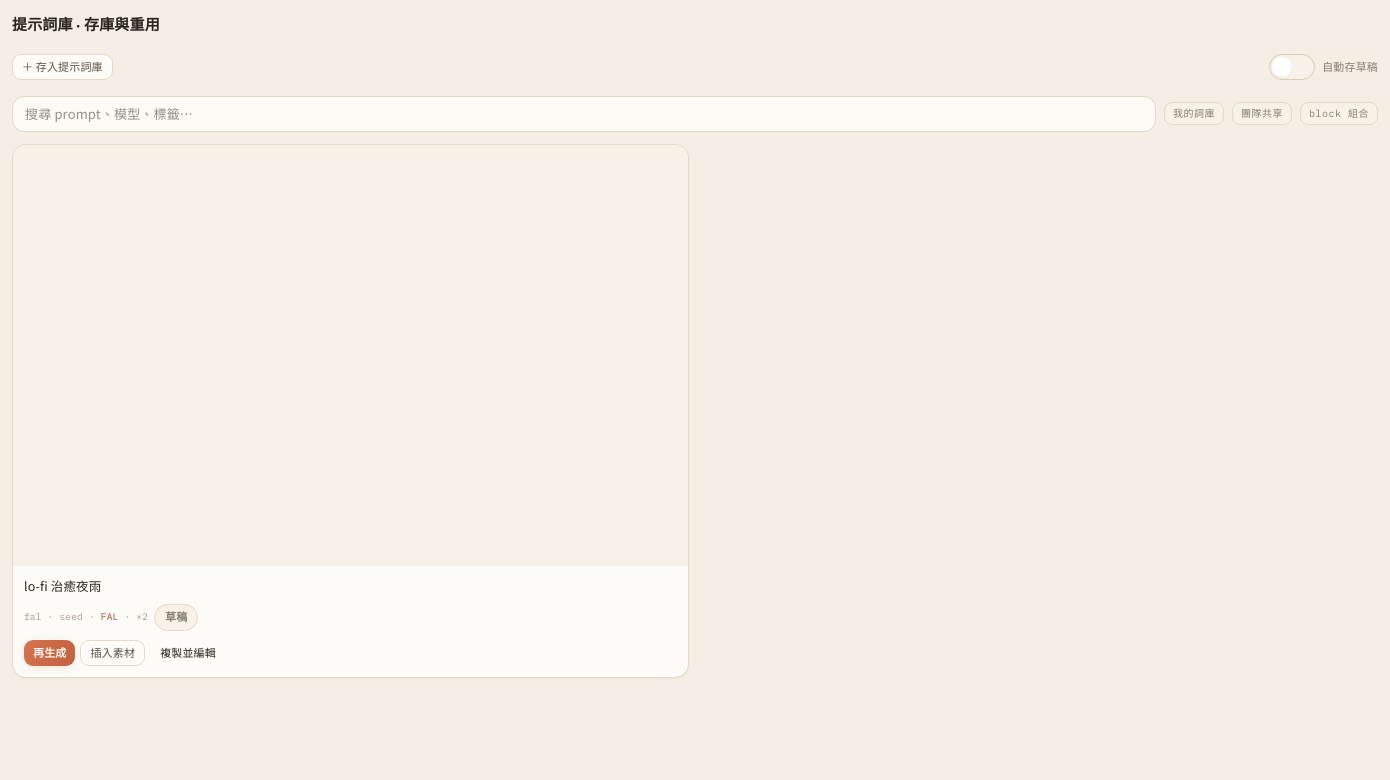
Test case: PromptVaultAdoption — 互動 › 存庫：按「＋ 存入提示詞庫」→ createPrompt 被呼叫、轉「已存入」
Expected: the text "lo-fi 治癒夜雨" is shown, [24, 576, 101, 595]
Click the button "＋ 存入提示詞庫": x=62, y=66 [12, 54, 113, 80]
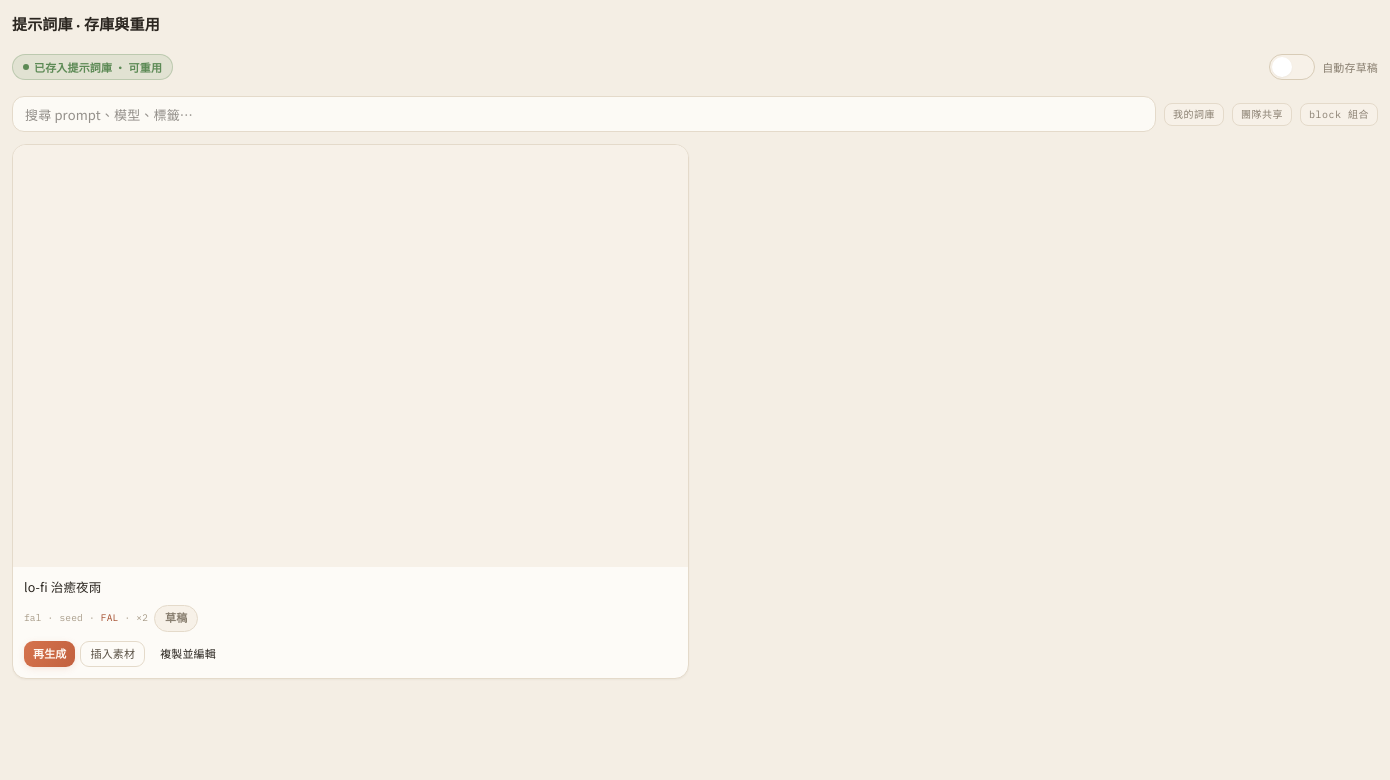
Result: the text "已存入提示詞庫 · 可重用" is shown at [12, 54, 173, 80]
